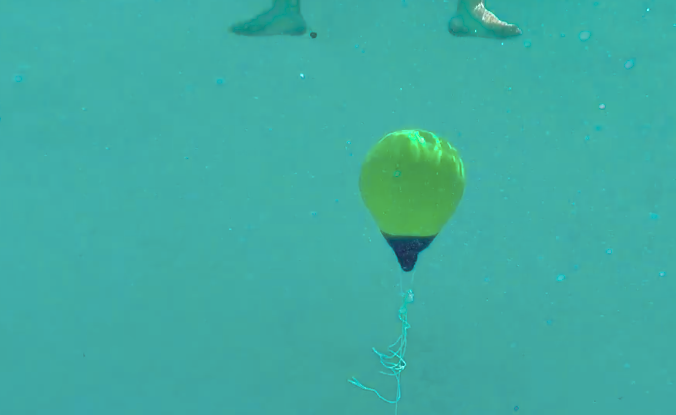yellow_buoy: (353, 123, 473, 278)
